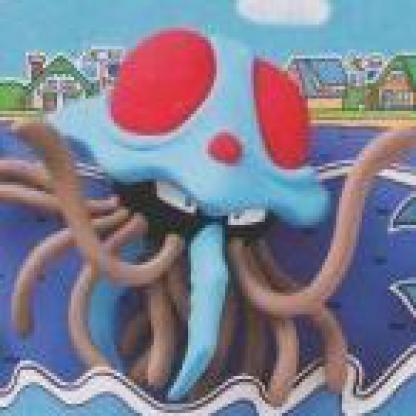Tentacruel: (10, 23, 414, 399)
